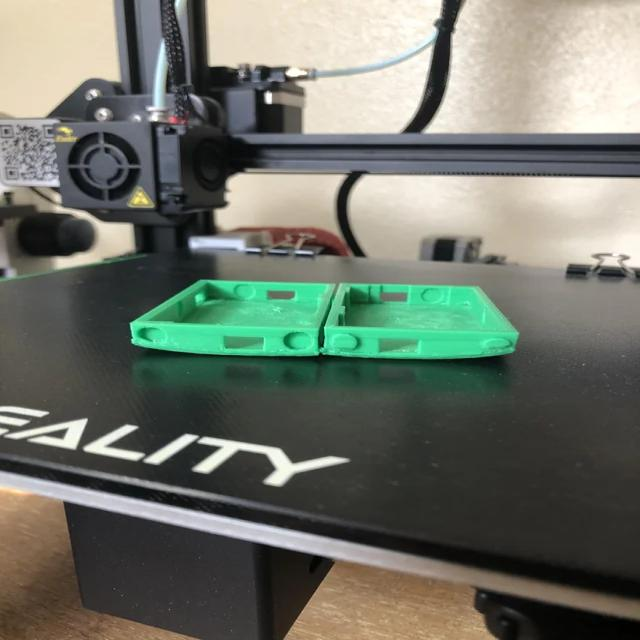warping: (449, 345, 526, 364), (300, 345, 364, 363), (124, 338, 185, 355)
